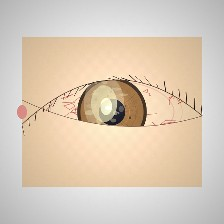corneal_ulcer: (74, 80, 134, 128)
